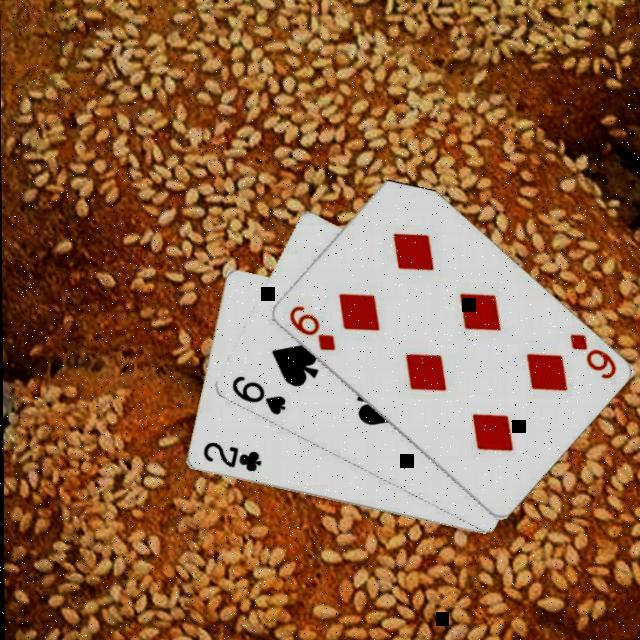2C: (198, 438, 262, 474)
6D: (564, 329, 618, 381), (284, 301, 336, 353)
6S: (226, 372, 286, 416)
